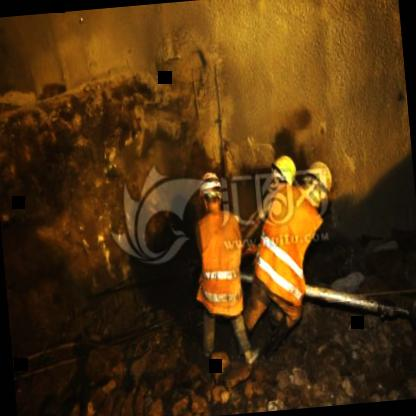helmet: (294, 160, 335, 212), (268, 147, 302, 206), (194, 169, 226, 213)
